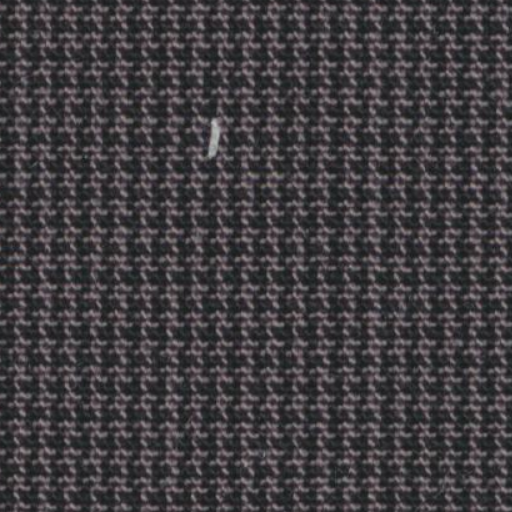DuanSha: (192, 103, 236, 178)
